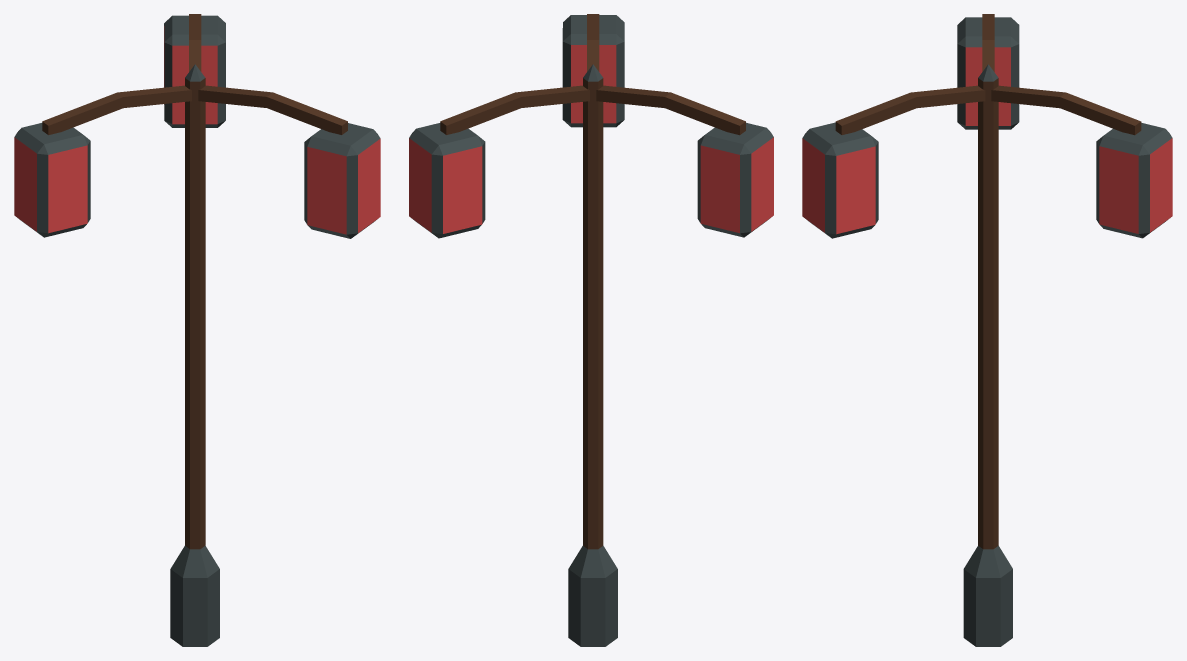
The model's file is Lamp_7_Red.fbx.
The picture shows the model from 3 angles, left to right: view 1: azimuth 30°, elevation 25°; view 2: azimuth 150°, elevation 25°; view 3: azimuth 270°, elevation 25°; orthographic projection.
Visible parts, largest first — view 1: Lamp_7_Red; view 2: Lamp_7_Red; view 3: Lamp_7_Red.
Boxes of the visible parts, x1,y1,x2,y2 form: Lamp_7_Red: (14,14,380,646); Lamp_7_Red: (409,14,773,646); Lamp_7_Red: (802,14,1172,646).
Bounding box in the file's own units: 155 × 307 × 180.
